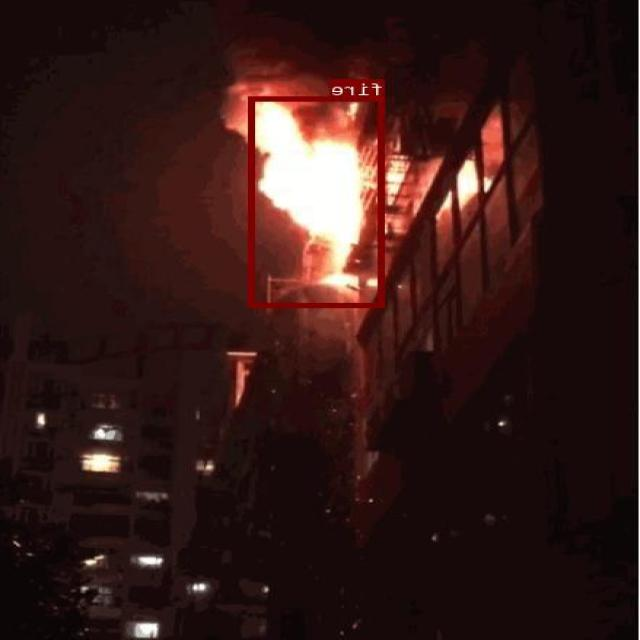fire: (250, 95, 386, 307)
